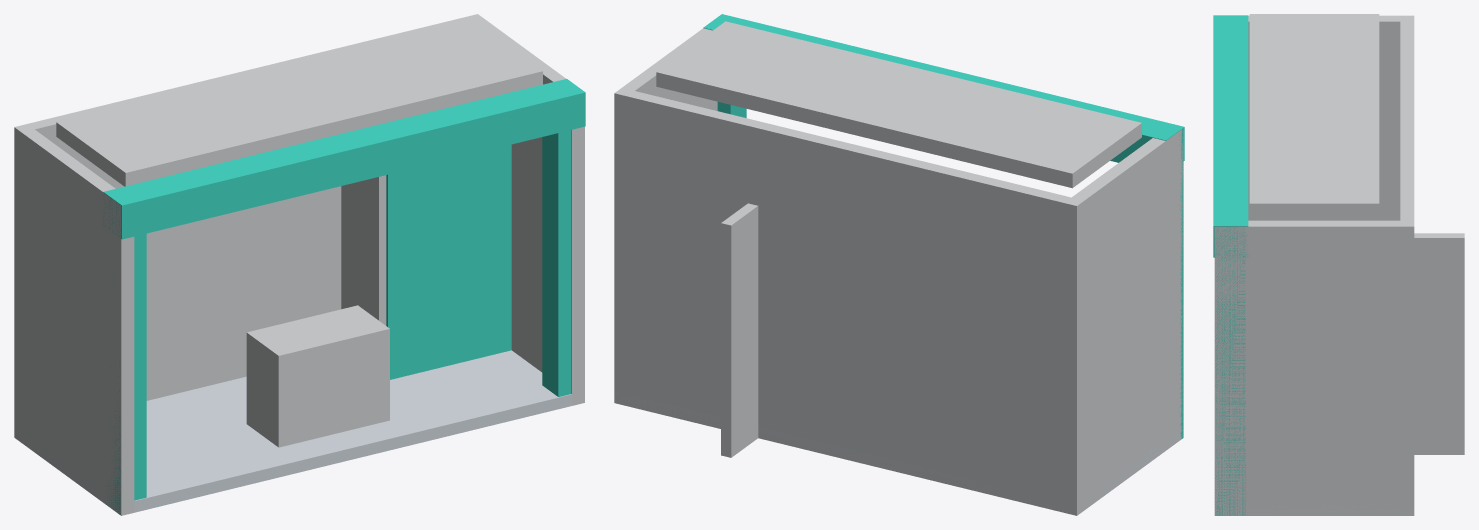
3 renders of one model, left to right at view 1: azimuth 30°, elevation 25°; view 2: azimuth 150°, elevation 25°; view 3: azimuth 270°, elevation 25°, orthographic. The views are drawn at different scales.
Parts seen in each view (by area): view 1: Exhibition Booth Concept; view 2: Exhibition Booth Concept; view 3: Exhibition Booth Concept.
Boxes of the visible parts, x1,y1,x2,y2 form: Exhibition Booth Concept: (14, 14, 585, 515); Exhibition Booth Concept: (614, 14, 1184, 515); Exhibition Booth Concept: (1213, 14, 1464, 515).
Size of the model in its own units: 5 by 3.34 by 2.52.
